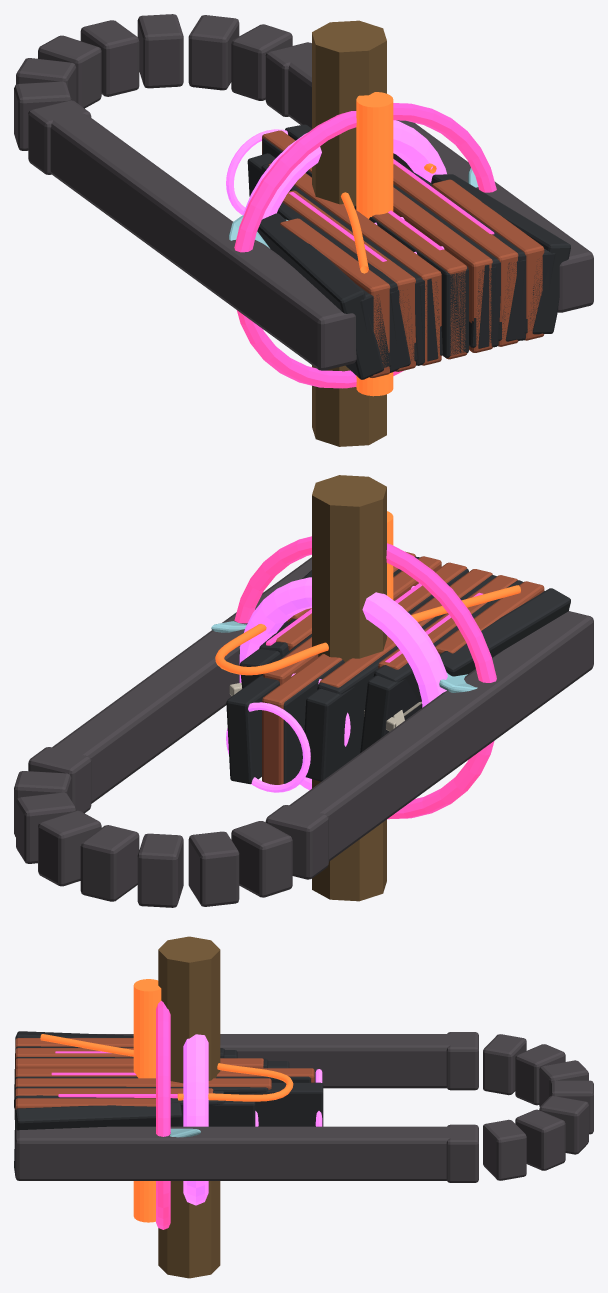
Rendered from artworld_assets.glb.
3 views of the same model, one above another, from view 1: azimuth 30°, elevation 25°; view 2: azimuth 150°, elevation 25°; view 3: azimuth 270°, elevation 25° (orthographic). The views are drawn at different scales.
Parts seen in each view (by area): view 1: ARCH_LEFT, TOTEM_BODY, CARNIVAL_OUTER, ARCH_RIGHT, KONA_CORE, KONA_SHARD_00, STG_LAYER_04, STG_LAYER_05, STG_LAYER_06, ARCH_TOP_02, ARCH_TOP_03, KONA_SHARD_06 (+23 smaller); view 2: ARCH_LEFT, TOTEM_BODY, ARCH_RIGHT, CARNIVAL_OUTER, PORTAL_RING, VEGAS_PRISM_02, ARCH_TOP_04, ARCH_TOP_07, STG_LAYER_03, ARCH_TOP_06, KONA_SHARD_00, VEGAS_PRISM_04 (+19 smaller); view 3: ARCH_RIGHT, TOTEM_BODY, ARCH_LEFT, KONA_SHARD_06, KONA_CORE, PORTAL_RING, CARNIVAL_OUTER, VEGAS_PRISM_04, ARCH_TOP_01, ARCH_TOP_02, STG_GLOW_SEAM, ARCH_TOP_07 (+18 smaller).
Part boxes in pixels (x1,y1,x2,y2): ARCH_LEFT: (44, 104, 356, 370); TOTEM_BODY: (312, 20, 386, 446); CARNIVAL_OUTER: (234, 103, 496, 388); ARCH_RIGHT: (279, 46, 593, 312); KONA_CORE: (356, 92, 393, 396); KONA_SHARD_00: (257, 213, 383, 379); STG_LAYER_04: (393, 187, 492, 352); STG_LAYER_05: (393, 164, 518, 346); STG_LAYER_06: (432, 179, 544, 340); ARCH_TOP_02: (188, 15, 239, 90); ARCH_TOP_03: (137, 14, 183, 88); KONA_SHARD_06: (431, 174, 570, 334); ARCH_LEFT: (278, 611, 593, 861); TOTEM_BODY: (312, 475, 386, 901); ARCH_RIGHT: (41, 557, 311, 803); CARNIVAL_OUTER: (234, 536, 496, 819); PORTAL_RING: (239, 577, 447, 790); VEGAS_PRISM_02: (304, 686, 365, 781); ARCH_TOP_04: (80, 825, 139, 901); ARCH_TOP_07: (231, 821, 292, 897); STG_LAYER_03: (262, 562, 466, 784); ARCH_TOP_06: (188, 831, 239, 906); KONA_SHARD_00: (421, 588, 570, 708); VEGAS_PRISM_04: (226, 675, 279, 784); ARCH_RIGHT: (15, 1126, 470, 1180); TOTEM_BODY: (158, 936, 220, 1278); ARCH_LEFT: (15, 1034, 470, 1088); KONA_SHARD_06: (14, 1102, 182, 1175); KONA_CORE: (133, 979, 161, 1222); PORTAL_RING: (183, 1034, 208, 1205); CARNIVAL_OUTER: (156, 1000, 170, 1229); VEGAS_PRISM_04: (244, 1082, 323, 1126); ARCH_TOP_01: (483, 1119, 526, 1180); ARCH_TOP_02: (515, 1109, 565, 1170); STG_GLOW_SEAM: (40, 1034, 293, 1101); ARCH_TOP_07: (483, 1034, 526, 1095).
Size of the model in its own units: 1.77 by 2.35 by 3.91.
